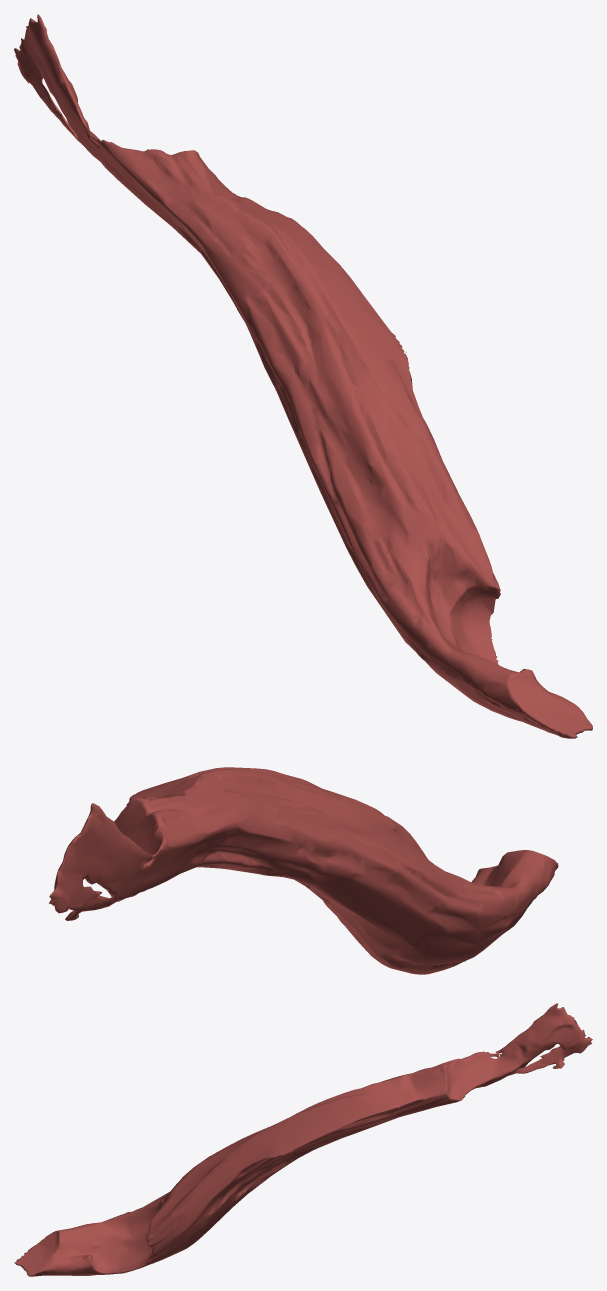
File: FMA45972.glb
3 views of the same model, one above another, from view 1: azimuth 30°, elevation 25°; view 2: azimuth 150°, elevation 25°; view 3: azimuth 270°, elevation 25° (orthographic). The views are drawn at different scales.
Visible parts, largest first — view 1: FMA45972; view 2: FMA45972; view 3: FMA45972.
Part boxes in pixels (x1,y1,x2,y2): FMA45972: (14, 14, 592, 738); FMA45972: (49, 767, 558, 974); FMA45972: (14, 1003, 592, 1276).
Bounding box in the file's own units: 0.0128 × 0.0385 × 0.0805.
